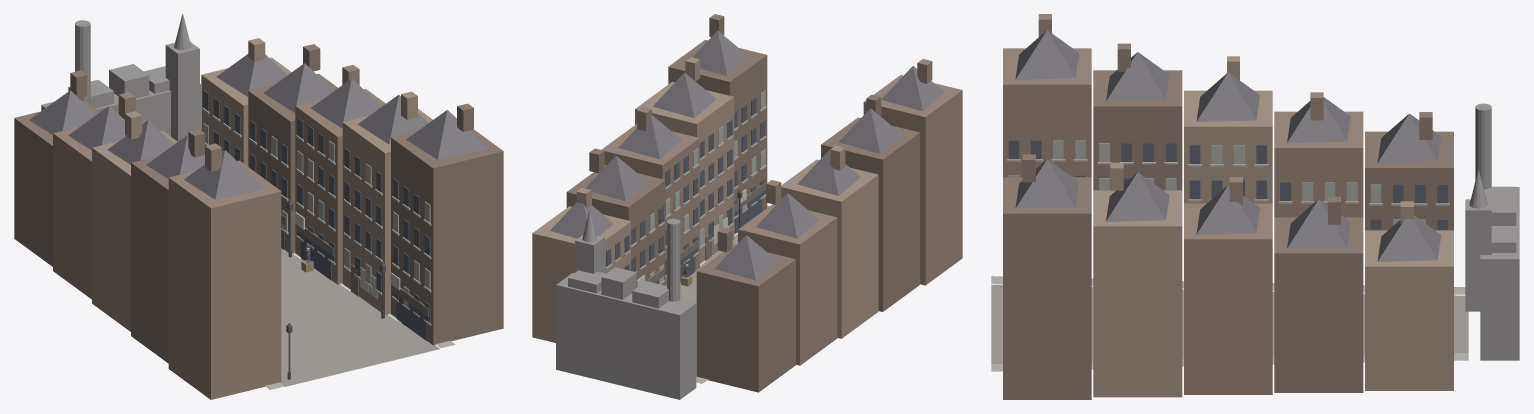
Rendered from scan-fig40-manchester-1851-muse.glb.
The picture shows the model from 3 angles, left to right: view 1: azimuth 30°, elevation 25°; view 2: azimuth 150°, elevation 25°; view 3: azimuth 270°, elevation 25°; orthographic projection. The views are drawn at different scales.
Parts seen in each view (by area): view 1: BldL0, BldR0, Road, BldR1, BldR2, BldL1, BldL2, BldL3, BldL4, BldR3, BldR4, FarSpireBase (+5 smaller); view 2: BldL4, FarBlock, BldL0, BldL1, BldL2, BldL3, BldR0, BldR1, BldR2, BldR4, BldR3, FarChimney (+5 smaller); view 3: BldR0, BldR1, BldR2, BldR3, BldR4, BldL0, BldL1, BldL2, BldL3, BldL4, FarBlock, Road (+4 smaller).
Boxes of the visible parts, box(x1,y1,x2,y2) form: BldL0: box(168, 143, 281, 399); BldR0: box(390, 103, 503, 345); Road: box(280, 248, 440, 386); BldR1: box(342, 91, 432, 314); BldR2: box(295, 65, 385, 284); BldL1: box(131, 129, 205, 363); BldL2: box(92, 111, 177, 331); BldL3: box(53, 92, 135, 299); BldL4: box(14, 70, 99, 266); BldR3: box(248, 44, 337, 253); BldR4: box(201, 38, 291, 166); FarSpireBase: box(165, 42, 199, 141); BldL4: box(696, 227, 795, 392); FarBlock: box(556, 273, 696, 399); BldL0: box(863, 59, 962, 285); BldL1: box(821, 94, 919, 311); BldL2: box(781, 145, 878, 338); BldL3: box(738, 180, 837, 365); BldR0: box(668, 14, 767, 233); BldR1: box(635, 57, 734, 263); BldR2: box(601, 106, 699, 285); BldR4: box(532, 188, 631, 342); BldR3: box(566, 148, 665, 287); FarChimney: box(667, 218, 680, 301); BldR0: box(1003, 154, 1091, 399); BldR1: box(1093, 162, 1182, 397); BldR2: box(1184, 177, 1272, 394); BldR3: box(1274, 196, 1363, 392); BldR4: box(1365, 201, 1453, 390); BldL0: box(1003, 14, 1091, 177); BldL1: box(1093, 43, 1182, 190); BldL2: box(1184, 56, 1272, 203); BldL3: box(1274, 92, 1363, 217); BldL4: box(1365, 112, 1453, 230); FarBlock: box(1480, 187, 1519, 360); Road: box(991, 284, 1468, 363).
Size of the model in its own units: 21.6 by 16.4 by 32.1.
